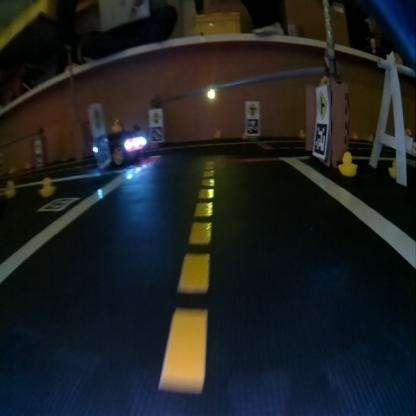Duckie: (337, 152, 357, 176), (39, 177, 55, 195), (3, 180, 16, 194), (388, 158, 397, 178), (111, 118, 121, 132), (214, 130, 220, 138), (300, 128, 306, 136)
Intersection sign: (315, 89, 328, 117), (247, 102, 258, 116)
QR code: (93, 134, 110, 166), (312, 123, 328, 156), (38, 198, 78, 210), (150, 126, 162, 142), (247, 119, 259, 133)
Traffic light: (206, 86, 216, 100)
